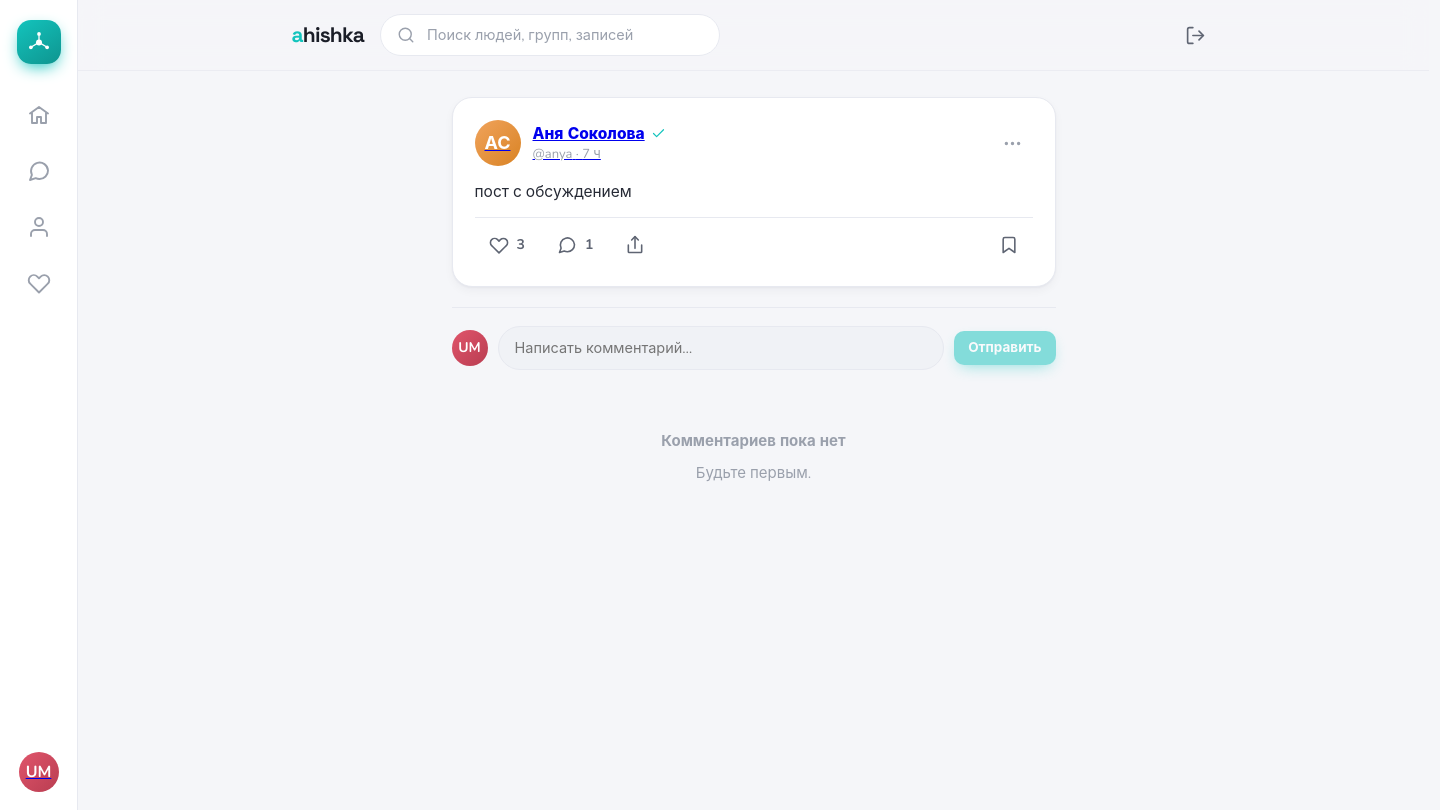
Test: отправленный комментарий появляется в ветке
This screenshot has width=1440, height=810.
In the field with placeholder "Написать комментарий…": coordinates (721, 348) x1=498 y1=326 x2=944 y2=370, type "моя реплика"
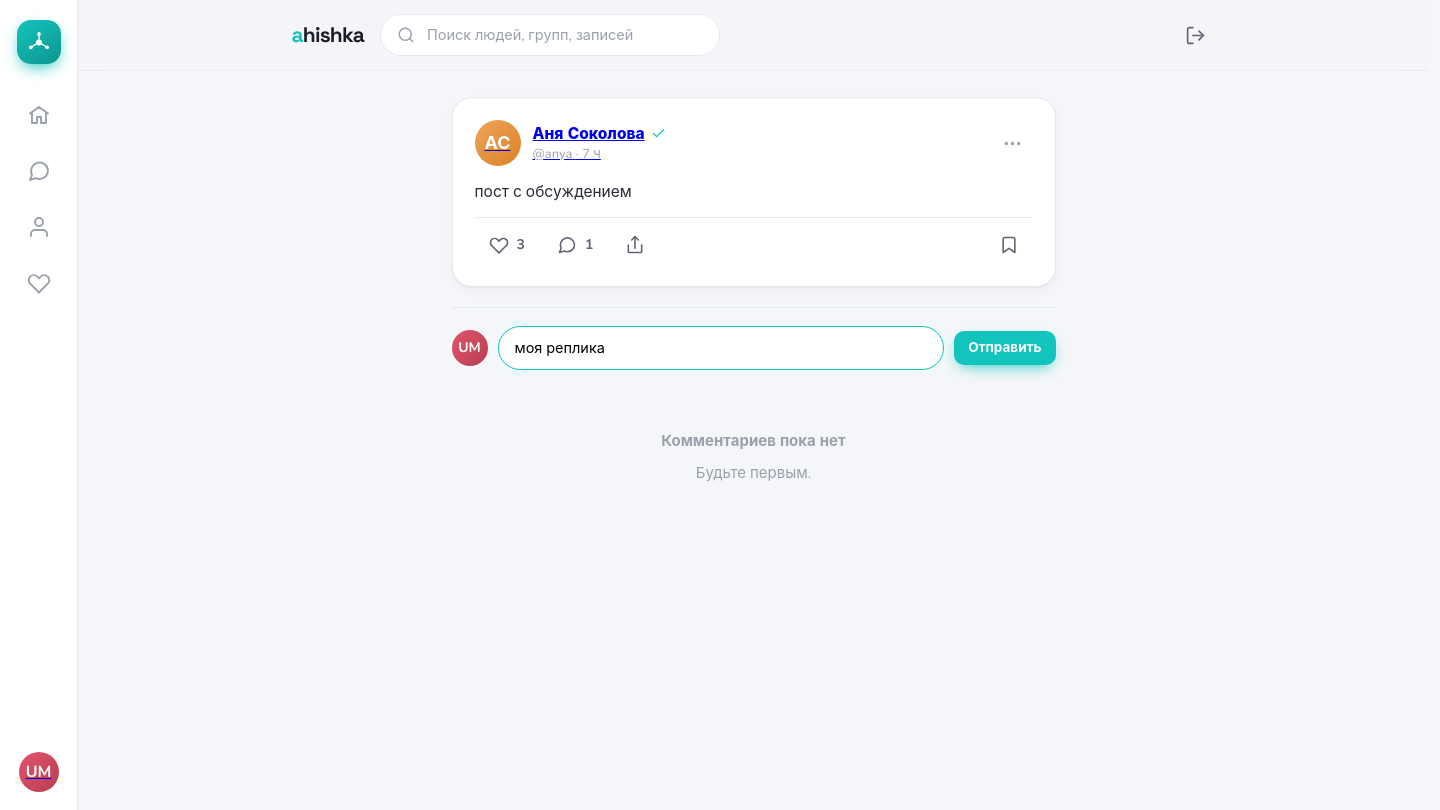
Click the button "Отправить": coordinates (1005, 348) x1=954 y1=331 x2=1056 y2=365
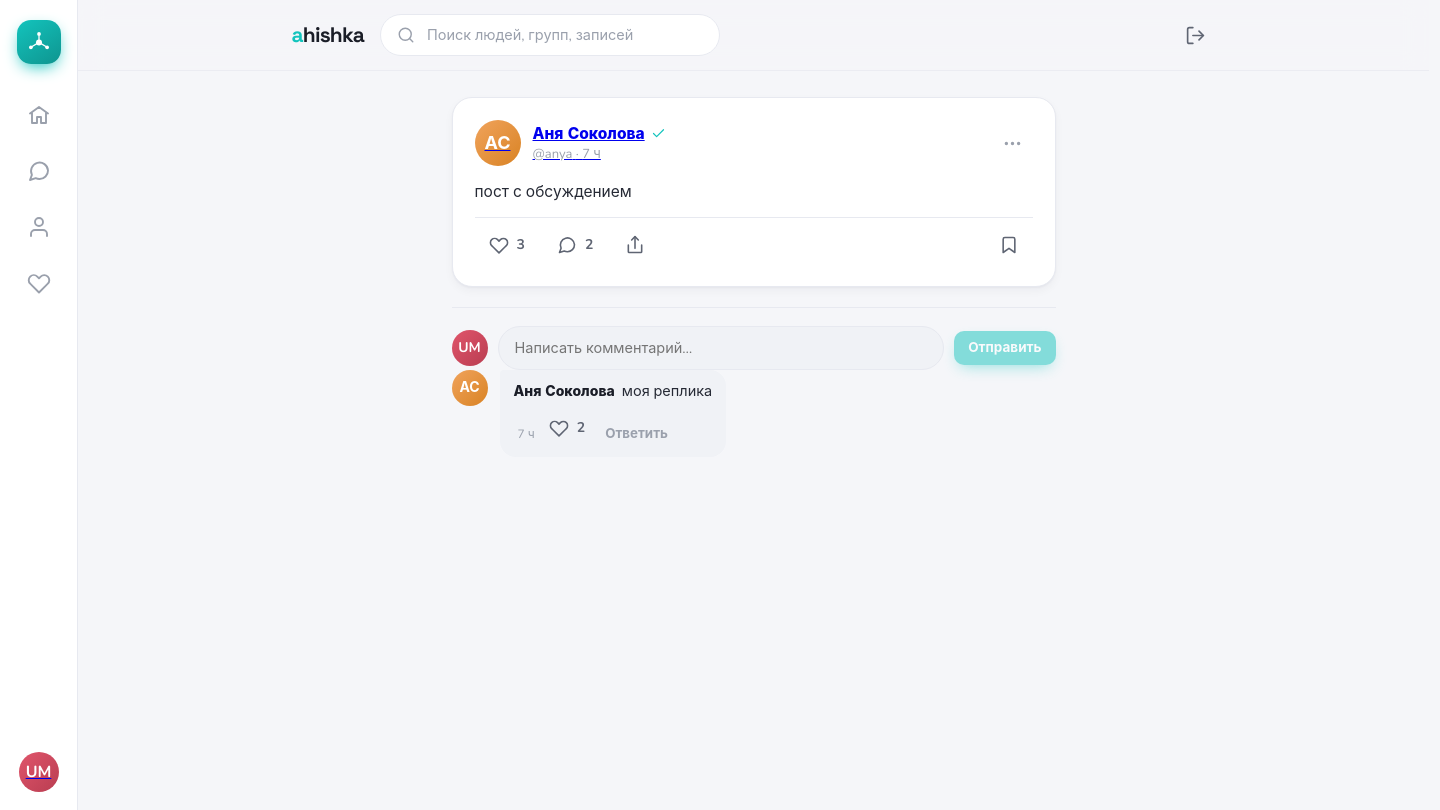
Check: the text "моя реплика" is shown, box x1=622 y1=381 x2=712 y2=401
